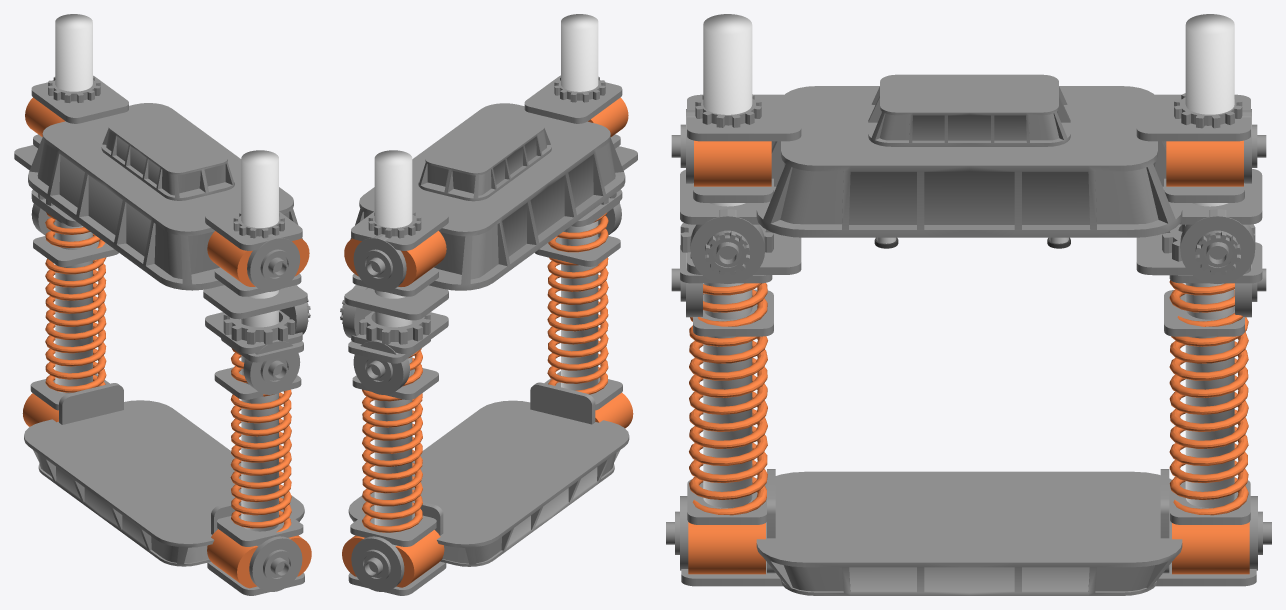
File: portal_recalculate.fbx
The picture shows the model from 3 angles, left to right: view 1: azimuth 30°, elevation 25°; view 2: azimuth 150°, elevation 25°; view 3: azimuth 270°, elevation 25°; orthographic projection. The views are drawn at different scales.
Visible parts, largest first — view 1: lamp, lamp.001, block_2, block, tube, Gear.004; view 2: lamp, lamp.001, block_2, tube, block, block.002, Gear.004; view 3: lamp, lamp.001, block_2, tube, block, Gear.004.
Part boxes in pixels (<box>): lamp: <box>14,75,310,362</box>; lamp.001: <box>24,400,304,566</box>; block_2: <box>22,212,311,588</box>; block: <box>30,190,304,595</box>; tube: <box>55,14,278,531</box>; Gear.004: <box>38,193,295,344</box>; lamp: <box>340,75,637,363</box>; lamp.001: <box>348,400,629,566</box>; block_2: <box>342,213,633,587</box>; tube: <box>374,14,598,526</box>; block: <box>348,189,622,595</box>; block.002: <box>530,382,595,424</box>; Gear.004: <box>359,193,616,344</box>; lamp: <box>671,74,1266,283</box>; lamp.001: <box>756,471,1182,595</box>; block_2: <box>688,280,1249,574</box>; tube: <box>703,14,1234,507</box>; block: <box>666,233,1271,586</box>; Gear.004: <box>680,223,1255,261</box>.
Size of the model in its own units: 234 by 647 by 643.
